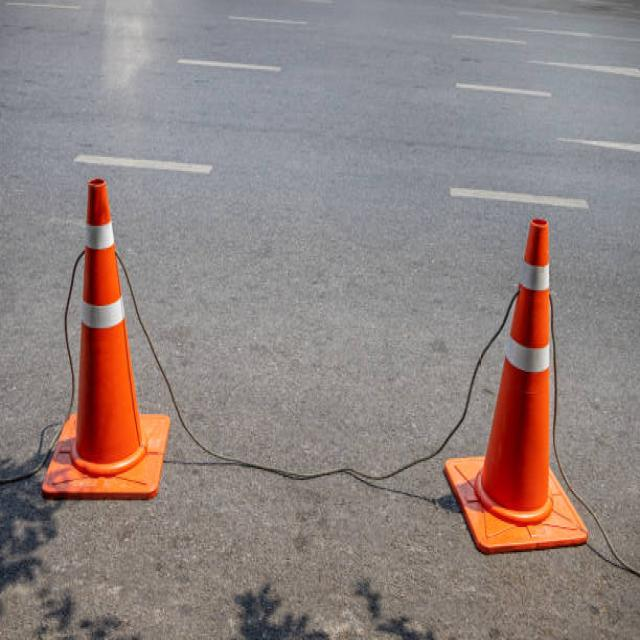Traffic Cone: (431, 193, 603, 577), (28, 153, 180, 520)
